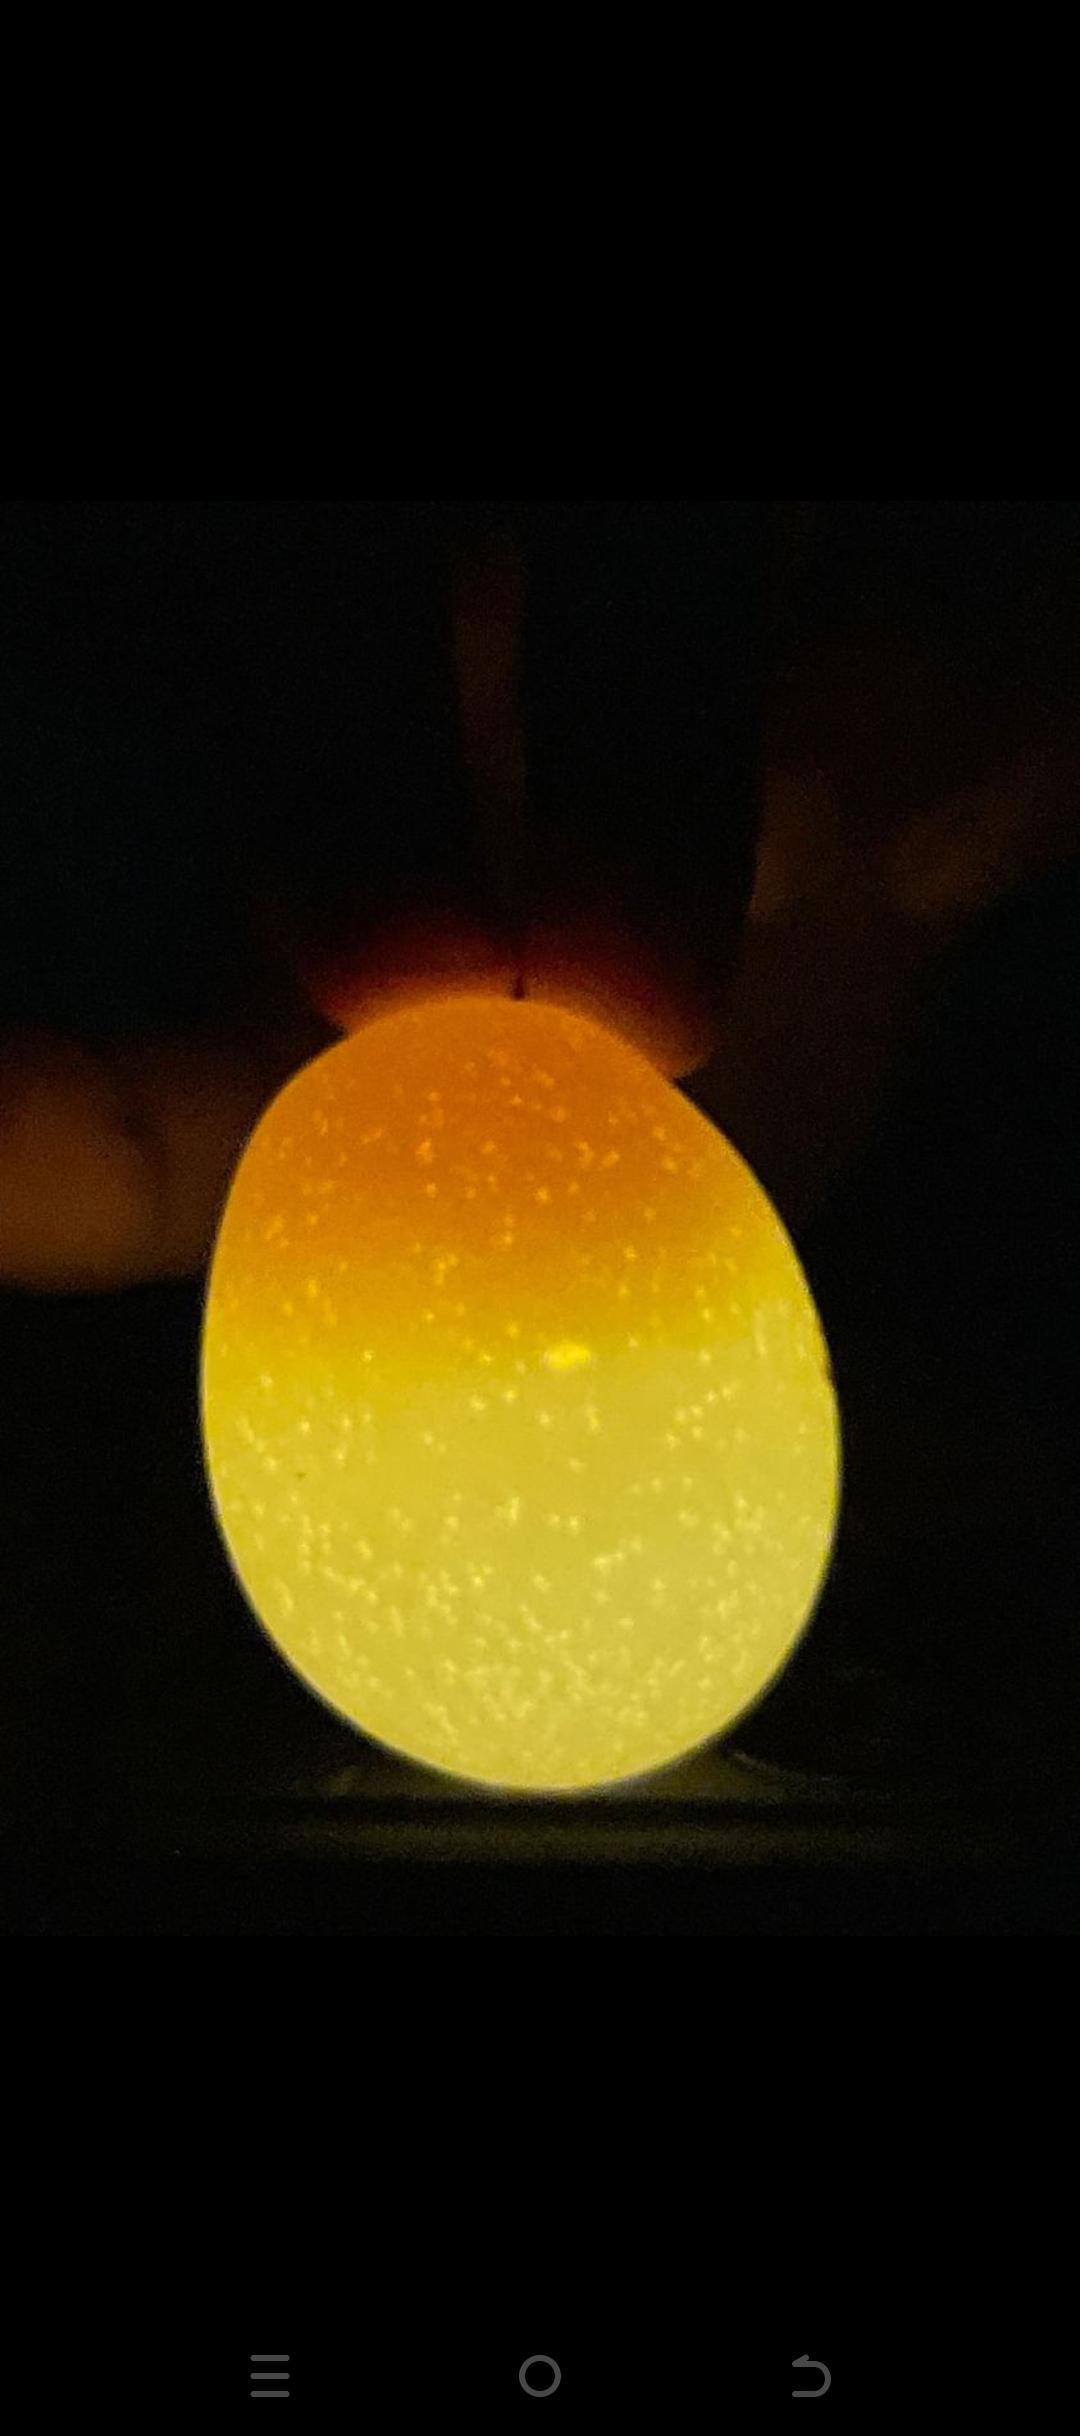A - Good: (190, 974, 847, 1807)
